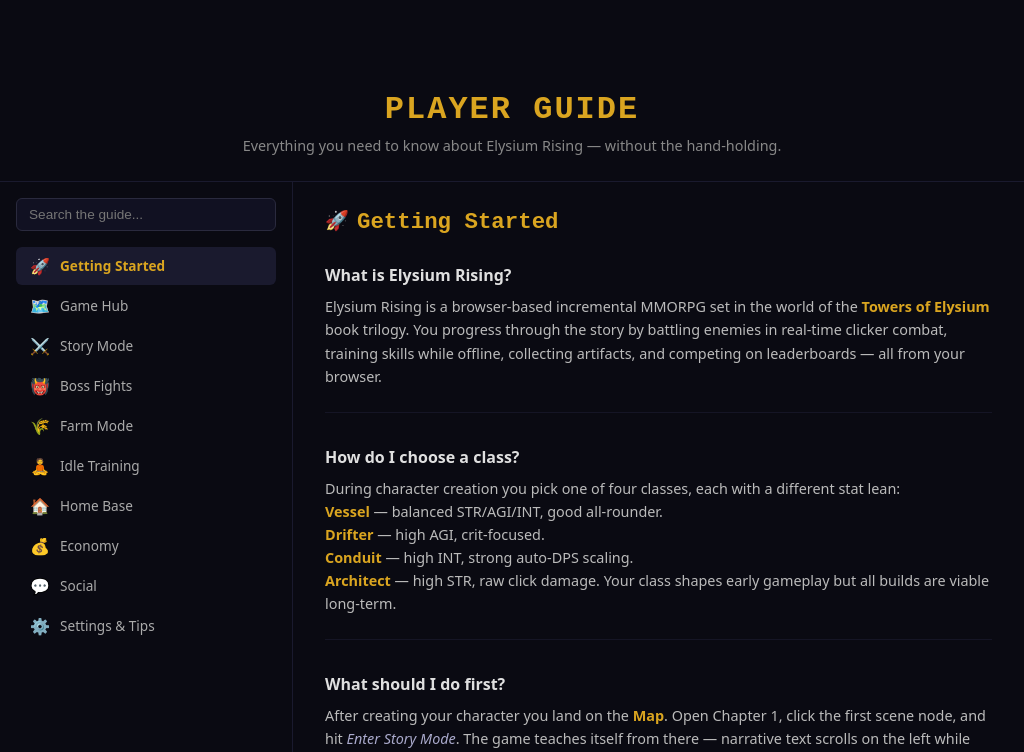
Scenario: PlayerGuide › filters entries on search
The image size is (1024, 752).
Type "marketplace" into the field with placeholder "Search the guide..." at (146, 214), box [16,198,276,231]
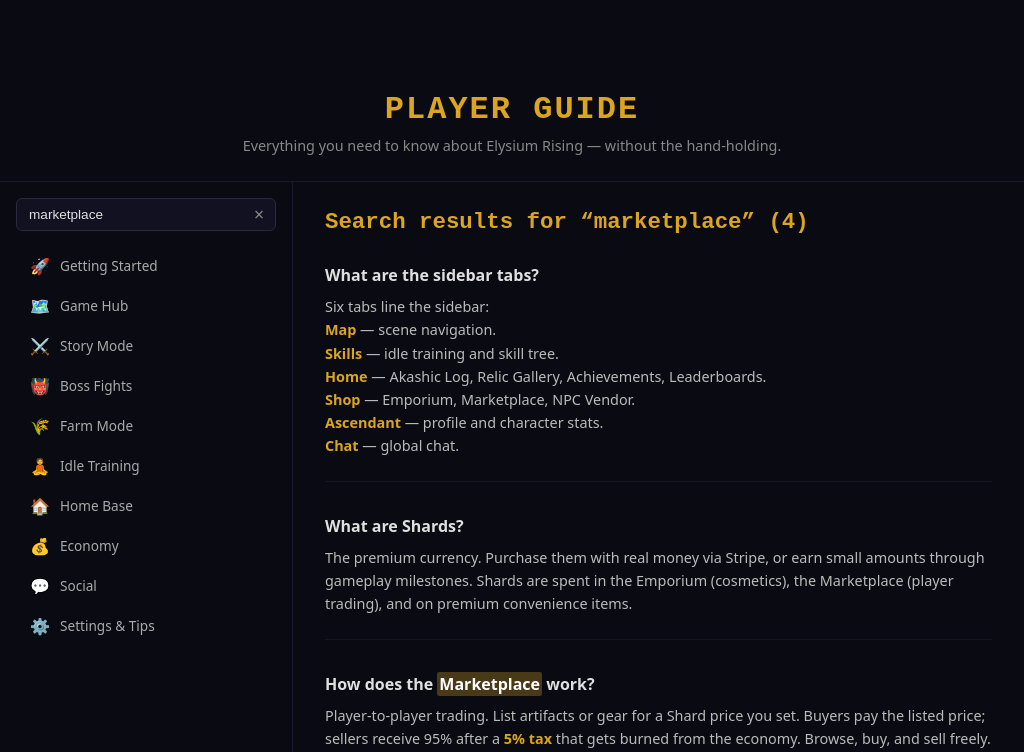
Expected: the heading "Search results for “marketplace” (4)" is shown, [325,209,809,235]
